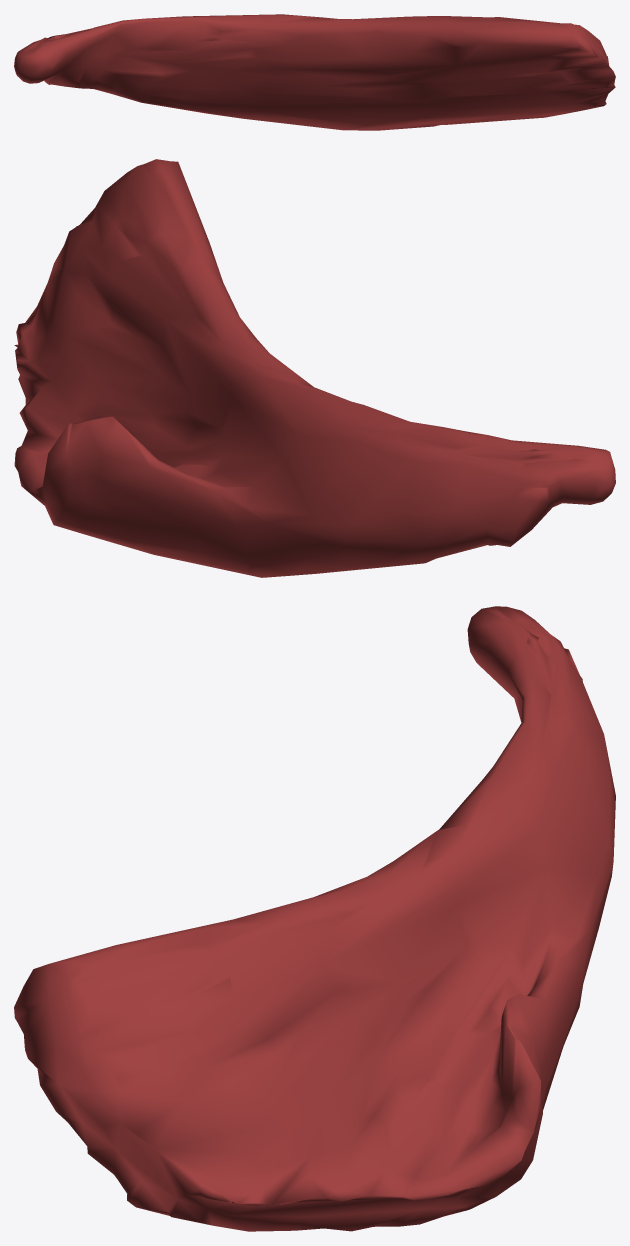
Rendered from obturator-externus-r.glb.
3 views of the same model, one above another, from view 1: azimuth 30°, elevation 25°; view 2: azimuth 150°, elevation 25°; view 3: azimuth 270°, elevation 25° (orthographic). The views are drawn at different scales.
Parts seen in each view (by area): view 1: Obturator externus.r; view 2: Obturator externus.r; view 3: Obturator externus.r.
Part boxes in pixels (x1,y1,x2,y2): Obturator externus.r: [14, 14, 615, 130]; Obturator externus.r: [14, 159, 615, 577]; Obturator externus.r: [14, 606, 615, 1231].
Size of the model in its own units: 0.0995 by 0.0309 by 0.0582.
